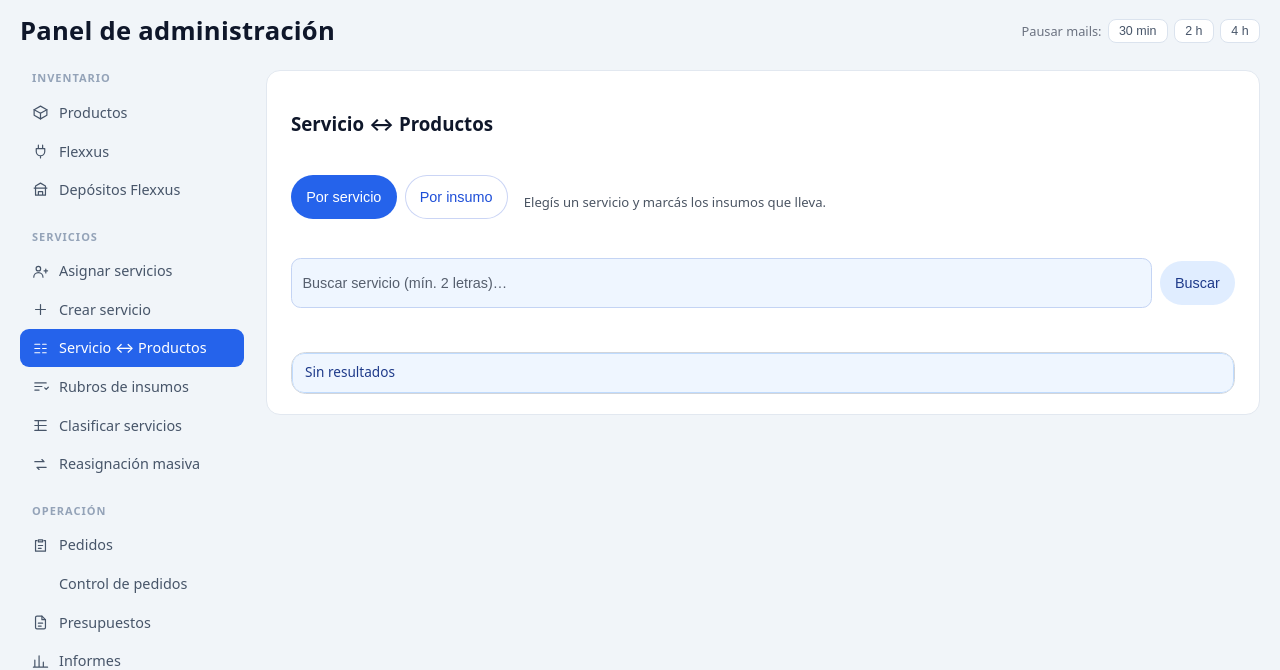
Servicio ↔ Productos — por servicio › muestra sólo los asignados o sólo los que faltan
This screenshot has width=1280, height=670.
Step 1. Type "hospital" into the field labelled "Buscar servicio" → (721, 284), box [291,258,1152,308]
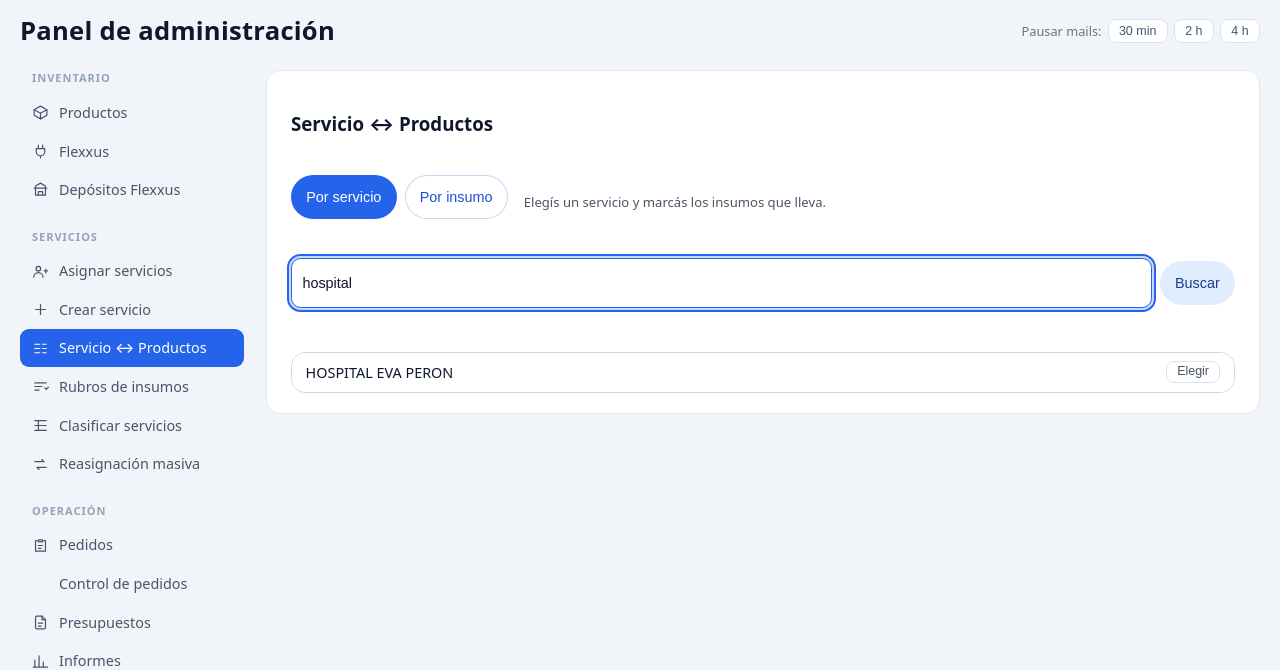
Step 2. Click the button "Elegir" → (1193, 372), box [1166,362,1220,383]
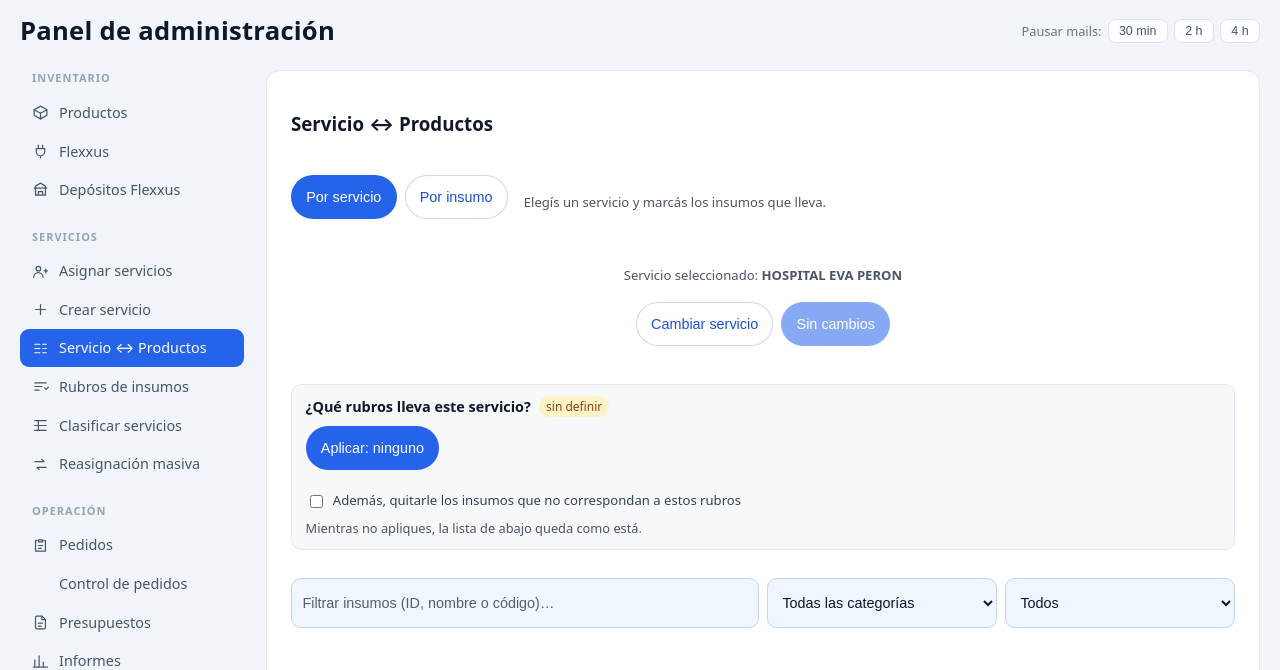
Now the field labelled "Filtrar insumos" is shown, box [291,578,759,628]
Step 3. Select "Sólo los asignados" in the dropdown named "Estado" → (1120, 603), box [1005,578,1235,628]
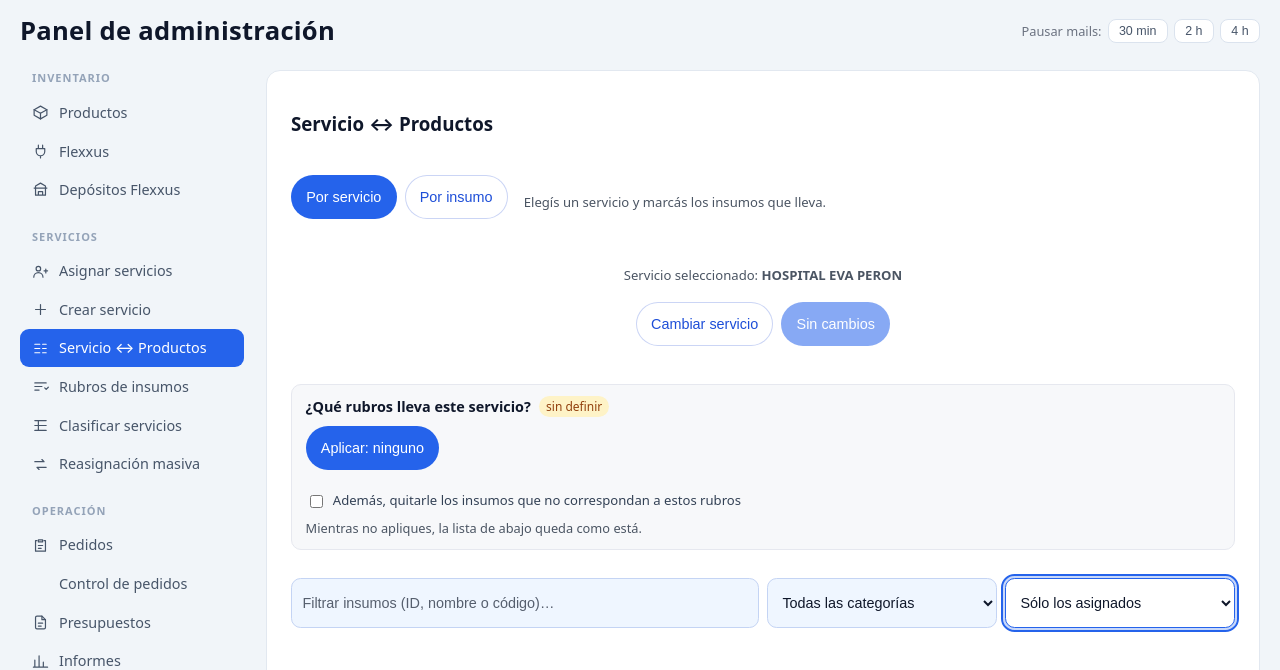
Step 4. Select "Sólo los que faltan" in the dropdown named "Estado" → (1120, 603), box [1005,578,1235,628]
(page scrolled)
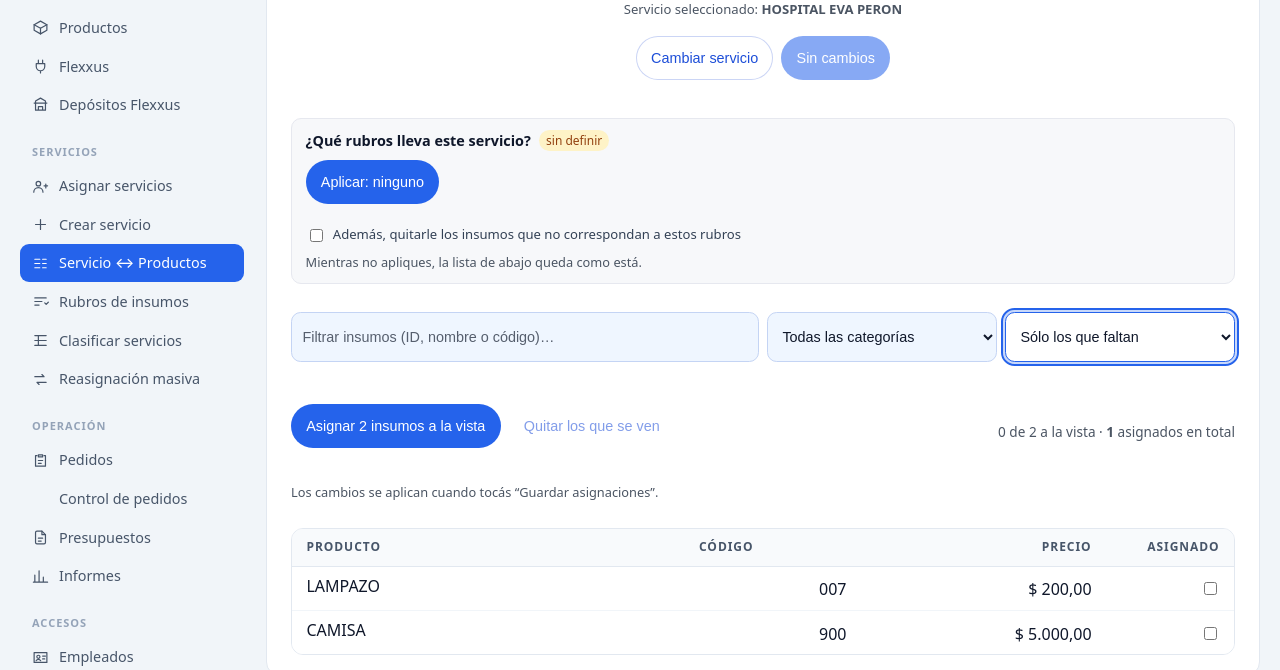
Now the checkbox named "Asignar LAMPAZO" is shown, box [1204,582,1217,595]
